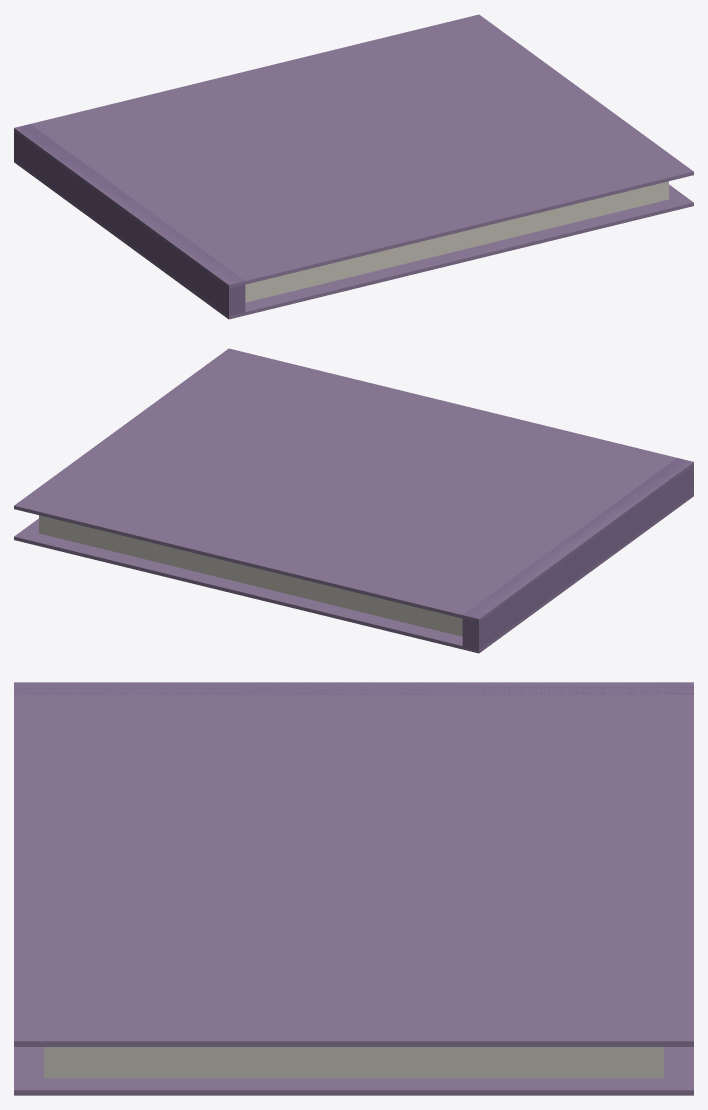
File: book_paperback.glb
The picture shows the model from 3 angles, top to bottom: view 1: azimuth 30°, elevation 25°; view 2: azimuth 150°, elevation 25°; view 3: azimuth 270°, elevation 25°; orthographic projection. The views are drawn at different scales.
Parts seen in each view (by area): view 1: Front_Cover, Spine, Pages, Back_Cover; view 2: Front_Cover, Spine, Pages, Back_Cover; view 3: Front_Cover, Pages, Back_Cover, Spine.
Boxes of the visible parts, x1=… form: Front_Cover: x1=14, y1=14, x2=693, y2=288; Spine: x1=14, y1=124, x2=245, y2=318; Pages: x1=245, y1=181, x2=668, y2=302; Back_Cover: x1=14, y1=159, x2=693, y2=319; Front_Cover: x1=14, y1=348, x2=693, y2=622; Spine: x1=462, y1=458, x2=693, y2=653; Pages: x1=39, y1=515, x2=462, y2=636; Back_Cover: x1=14, y1=493, x2=693, y2=653; Front_Cover: x1=14, y1=682, x2=693, y2=1046; Pages: x1=44, y1=1047, x2=663, y2=1078; Back_Cover: x1=14, y1=1047, x2=693, y2=1095; Spine: x1=14, y1=682, x2=693, y2=694.
Bounding box in the file's own units: 0.1912 × 0.0135 × 0.153.
